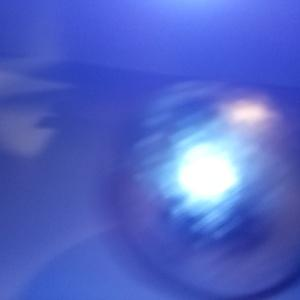alive_ball: (108, 77, 300, 299)
